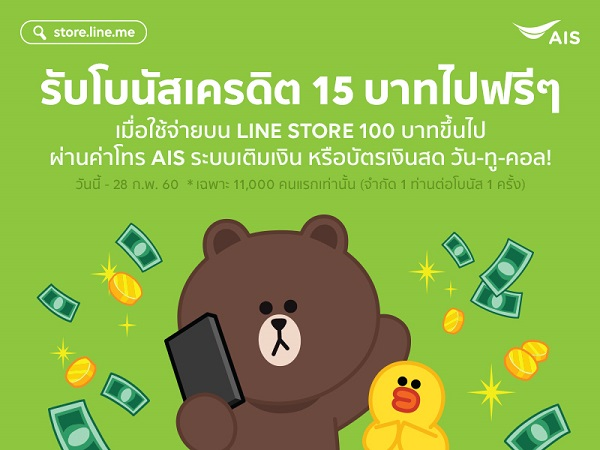line_brown: (165, 211, 401, 409)
